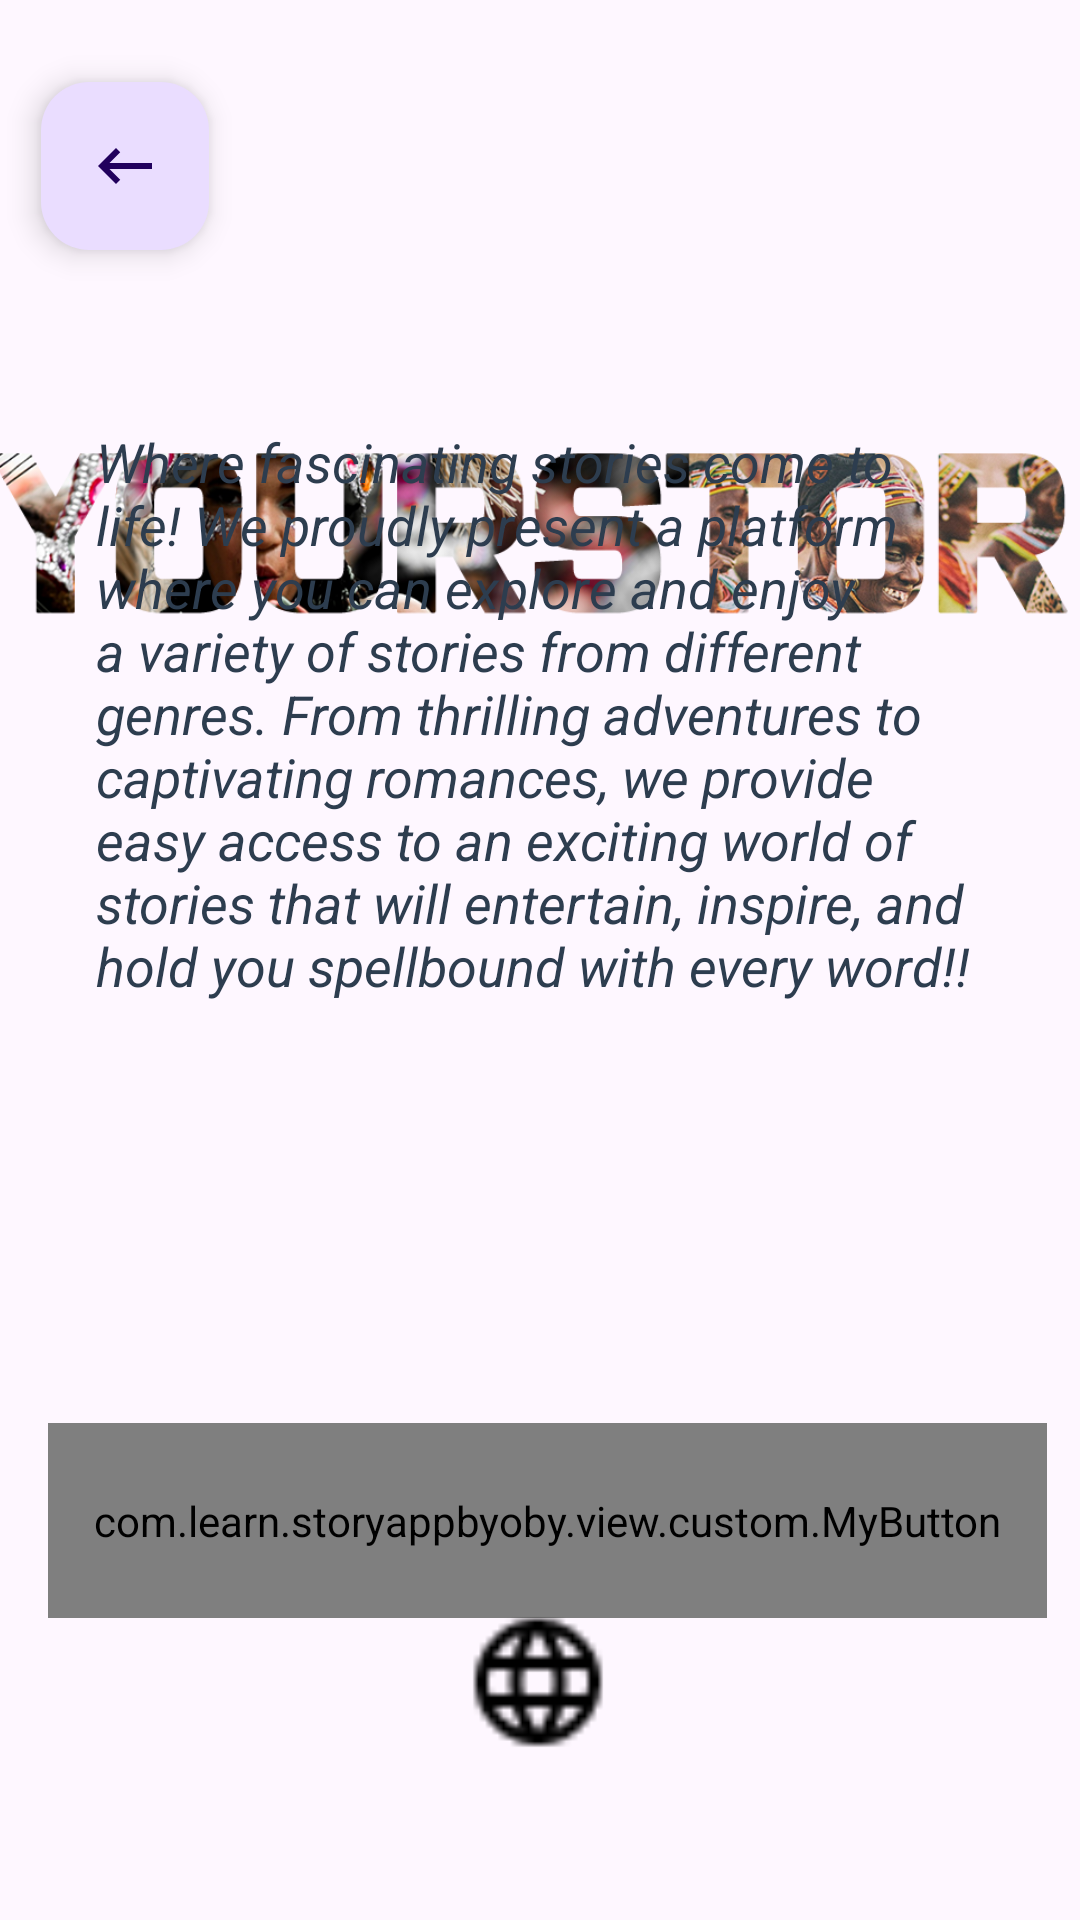

Screen size 1080px x 1920px. Icon name, then its box in pixels as [x1, y1, x2, y2]:
back: [41, 82, 209, 250]
language: [463, 1607, 613, 1747]
